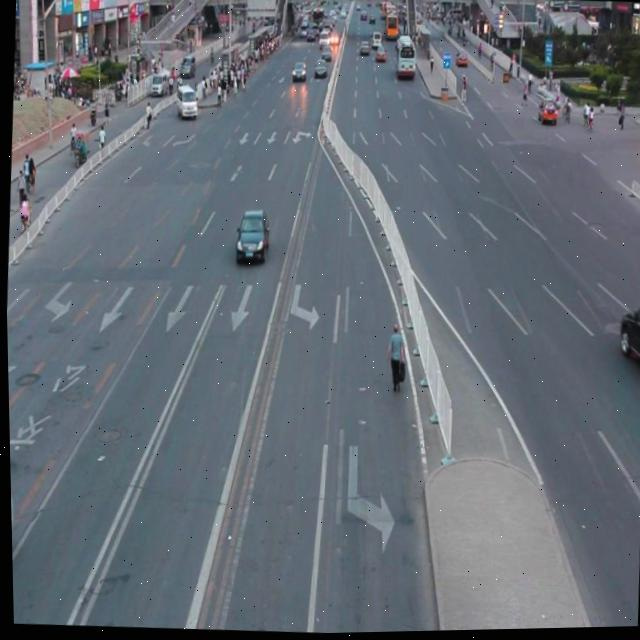car: (614, 300, 640, 384), (232, 207, 269, 264)
